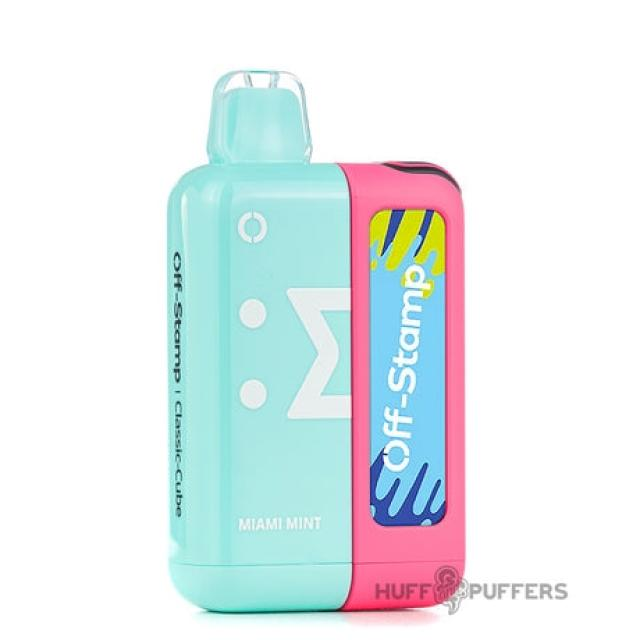Vape-images: (164, 66, 466, 614)
